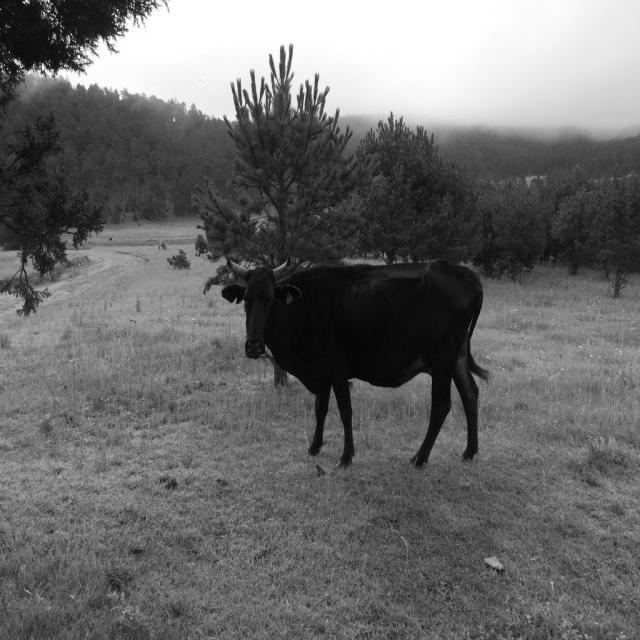cow: (221, 261, 486, 468)
